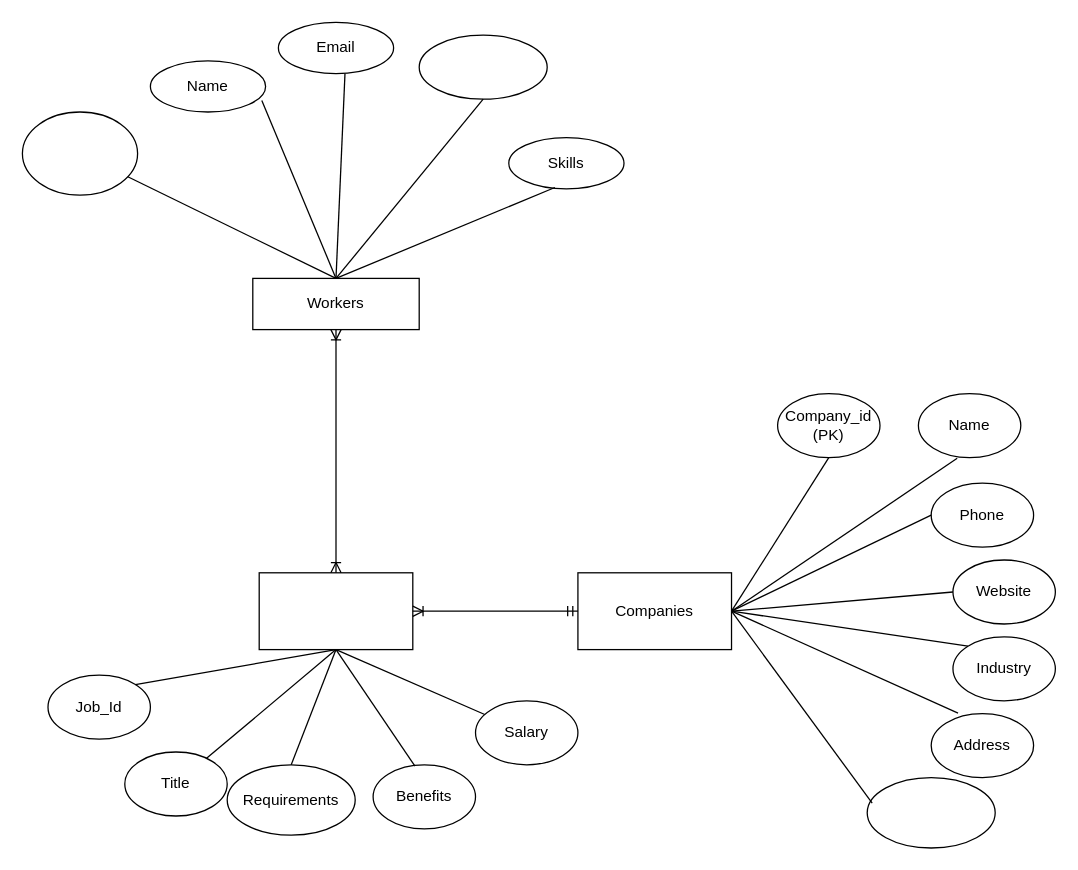
This 1078x870 diagram has some shape labels left out. The shapes that lost their labels are listed below. From the top down, each one's centre as x and y in pixels, then its label:
At (x=482, y=66): "Education Level".
At (x=79, y=153): "Worker_Id(PK)".
At (x=335, y=611): "Jobs".
At (x=930, y=812): "Contact_email".
